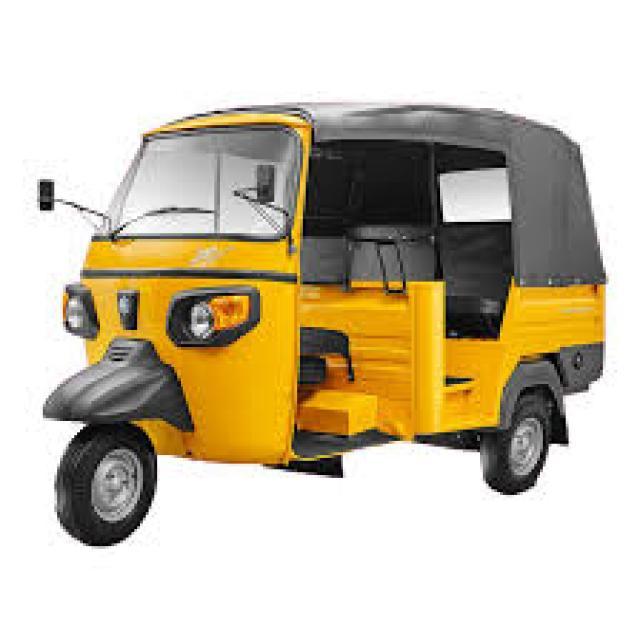tuktuk: (8, 57, 626, 611)
